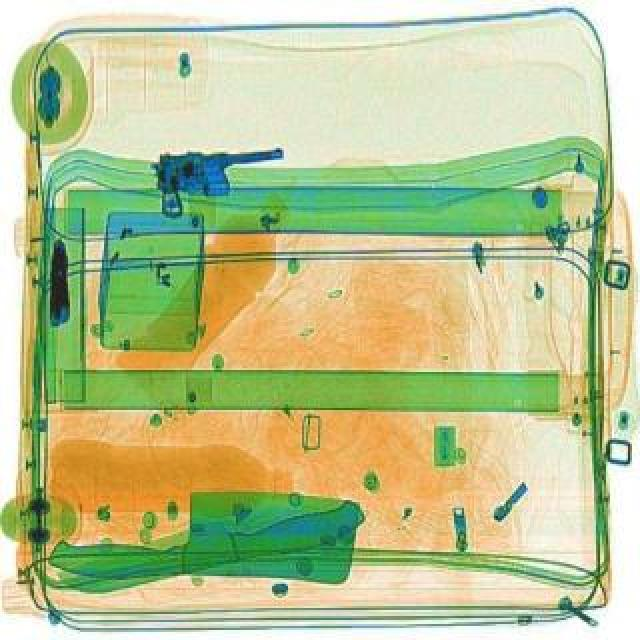gun: (150, 140, 294, 216), (44, 236, 70, 324)
knife: (48, 476, 364, 594), (40, 490, 370, 602)
